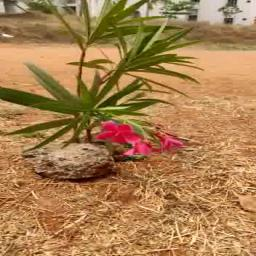OLEANDER: (1, 0, 206, 156)
